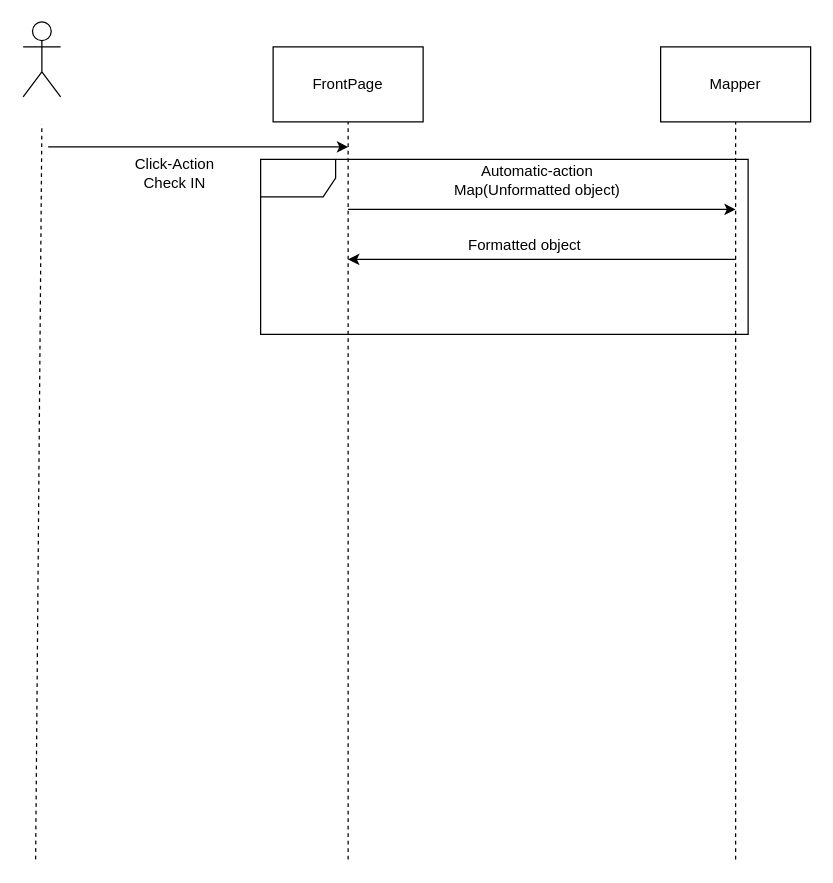
Image size: 833x883. Some labels were removed from this diagram. The centre of each missing label's shape, as x and y in pixels:
"Guest" goes at (x=41, y=59).
"Loop" goes at (x=503, y=246).
